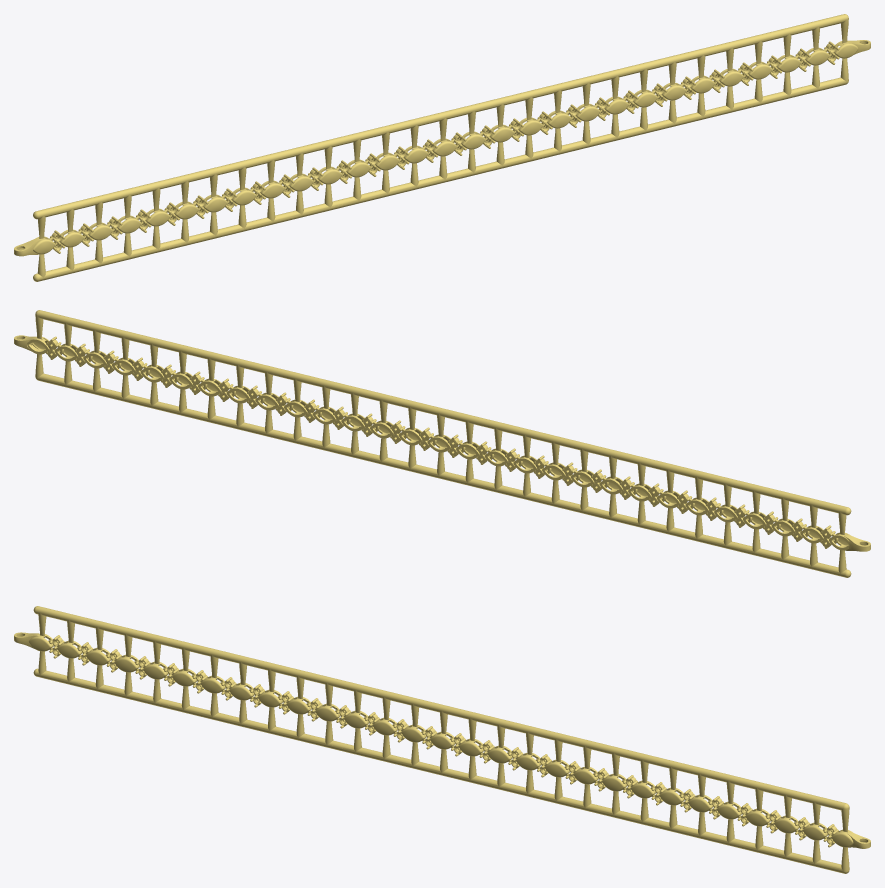
Rendered from yzn5-90_7.glb.
3 renders of one model, top to bottom at view 1: azimuth 30°, elevation 25°; view 2: azimuth 150°, elevation 25°; view 3: azimuth 330°, elevation 25°, orthographic.
Parts seen in each view (by area): view 1: Renderer Node; view 2: Renderer Node; view 3: Renderer Node.
Boxes of the visible parts, left/top/right/bottom form: Renderer Node: left=14, top=14, right=870, bottom=281; Renderer Node: left=14, top=310, right=870, bottom=577; Renderer Node: left=14, top=606, right=870, bottom=873.
Bounding box in the file's own units: 180 × 14.08 × 2.52.
